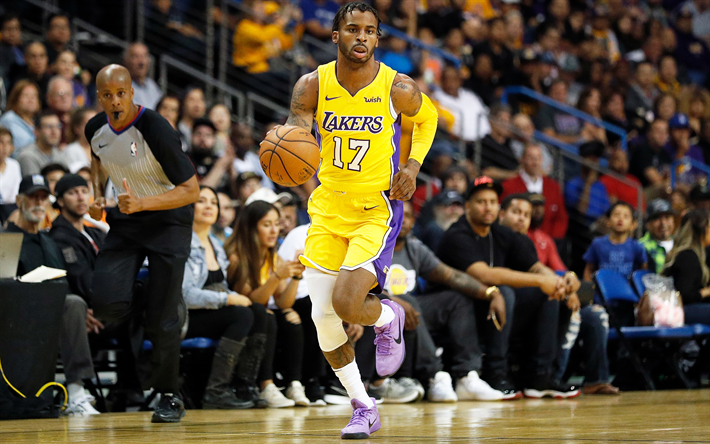ball: (259, 123, 321, 186)
player: (301, 6, 443, 434), (67, 66, 185, 422)
